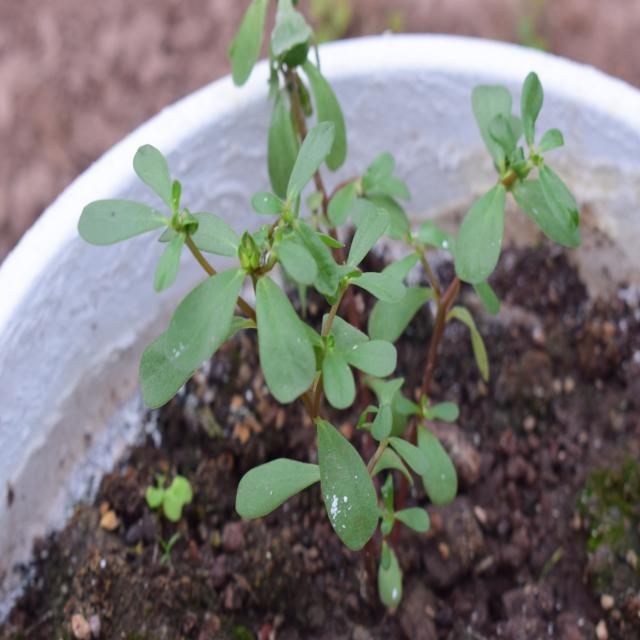purslane: (123, 29, 499, 548)
